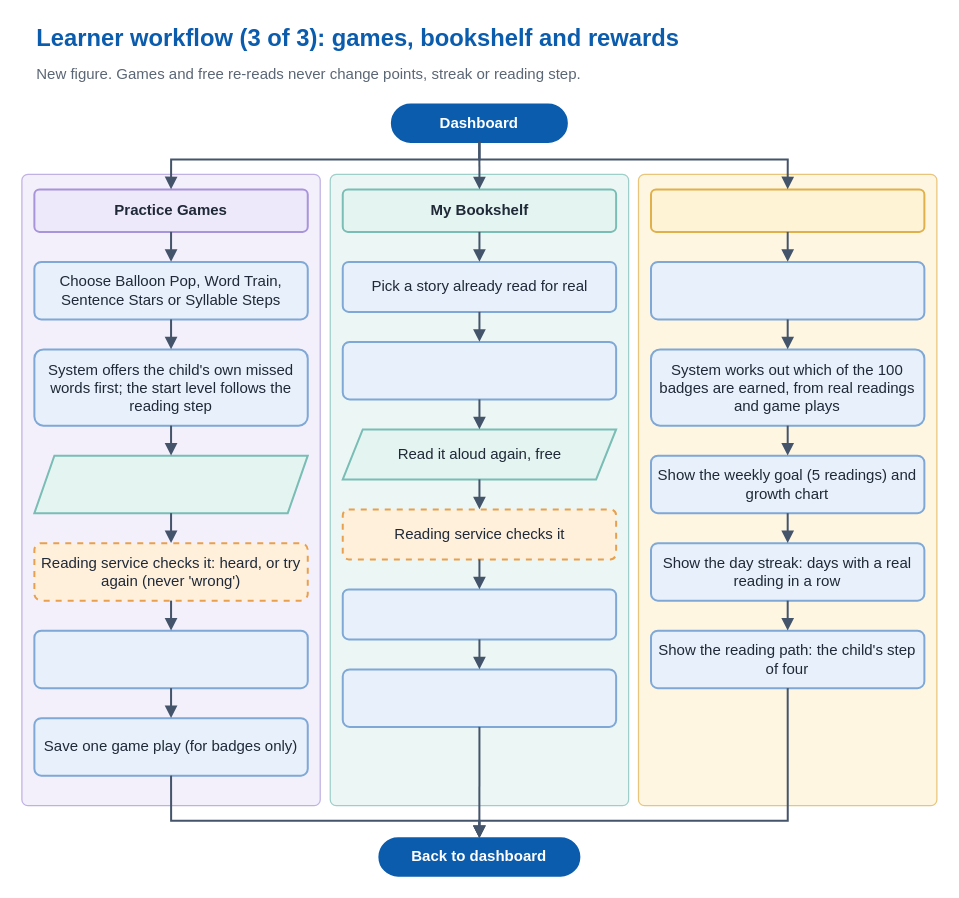
Image size: 959x898. Some labels were removed from this diagram. The box of each missing label's shape, as (x1, y1, x2, y2) in pixels:
2 tries each; 3 things a round; up to 3 rounds: (33, 629, 308, 688)
Open My Badges, goal and reading path: (649, 260, 925, 320)
Read the word, row or sentence aloud: (33, 454, 308, 514)
Rewards: (649, 188, 925, 232)
Save nothing: no points, streak or level: (341, 668, 616, 727)
Show the word by word review: (341, 588, 616, 640)
System allows only stories this child really finished: (341, 340, 616, 400)
